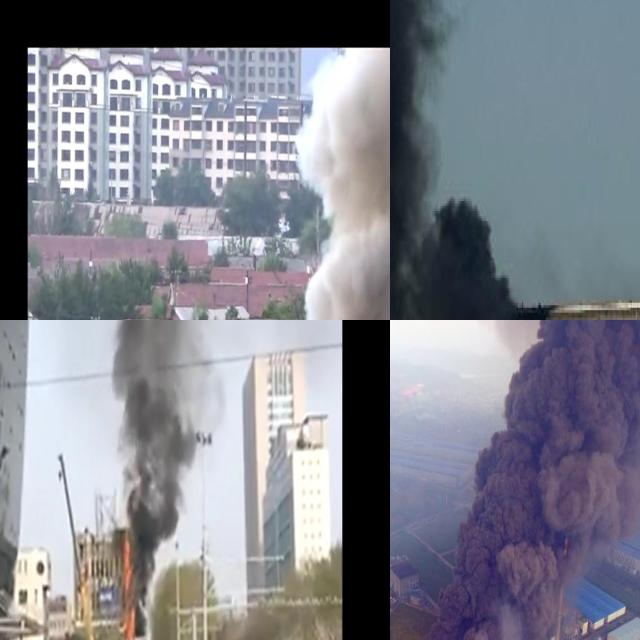fire: (118, 541, 136, 640)
smoke: (424, 320, 640, 640), (390, 0, 524, 320), (112, 320, 220, 636), (274, 52, 390, 320)
